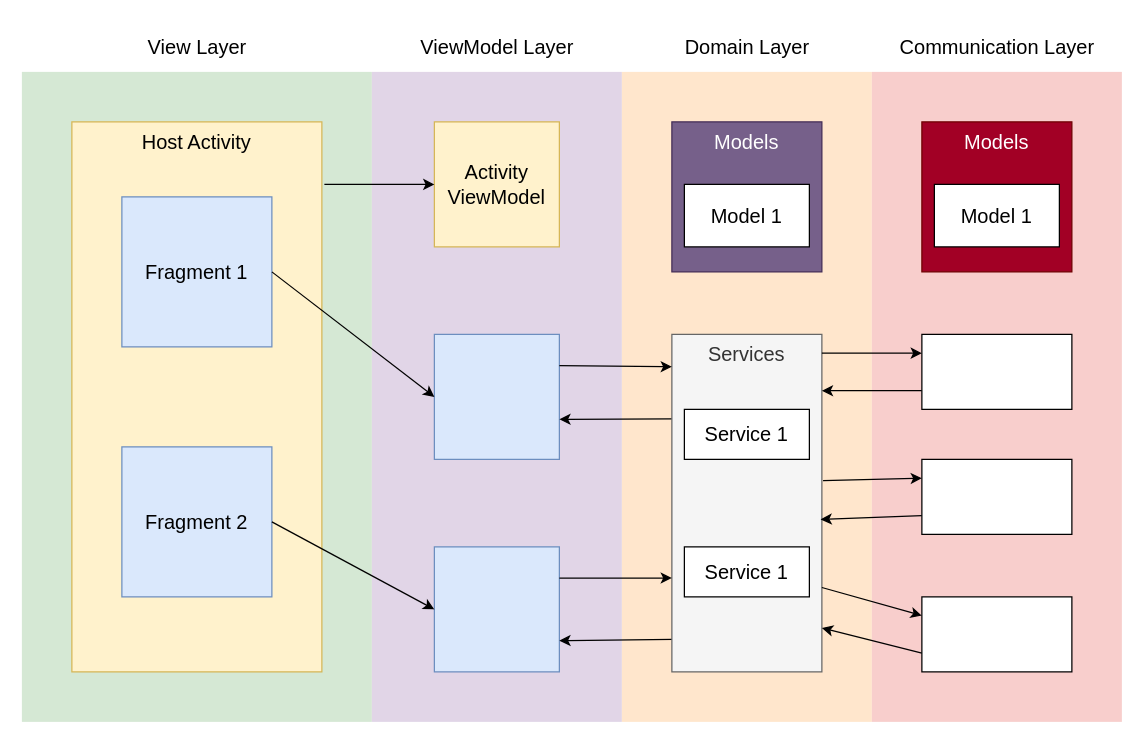
Some shapes in this 1143 by 743 pixel diagram are drawn without their labels. Here are the shapes that lost their labels. From the top down, the centre of each, then its label:
At point 996,371: "Bluetooth".
At point 496,396: "Fragment 1 ViewModel".
At point 996,496: "Firebase".
At point 496,609: "Fragment 2 ViewModel".
At point 996,634: "Persistence".
